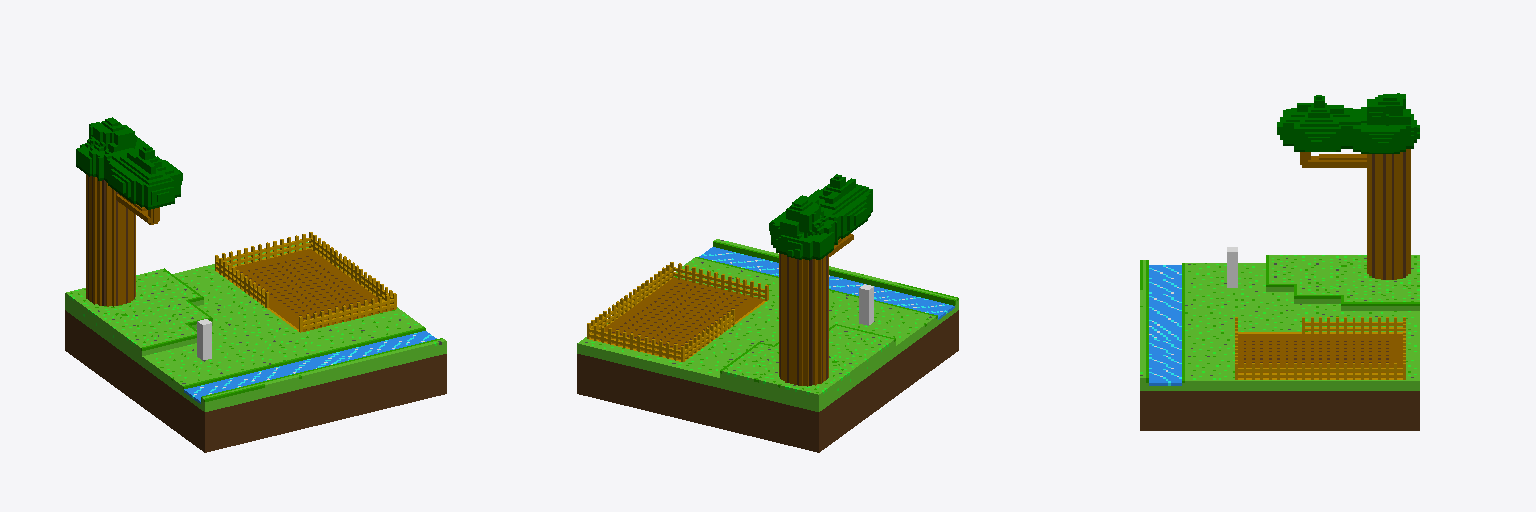
3 renders of one model, left to right at view 1: azimuth 30°, elevation 25°; view 2: azimuth 150°, elevation 25°; view 3: azimuth 270°, elevation 25°, orthographic.
Bounding box in the file's own units: 100 × 92 × 100.
1 materials, 1 textured.